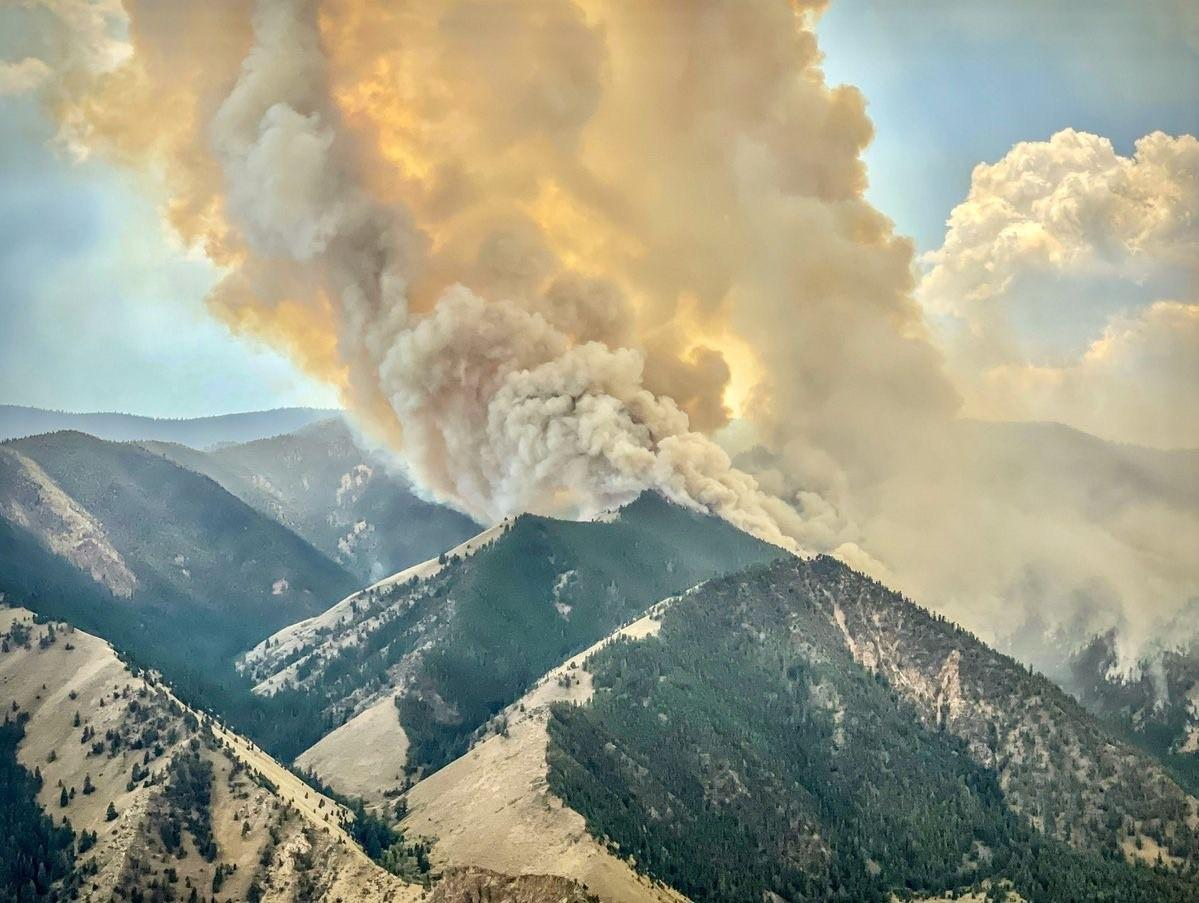smoke: (71, 0, 973, 742), (297, 199, 872, 569), (968, 444, 1179, 751)
